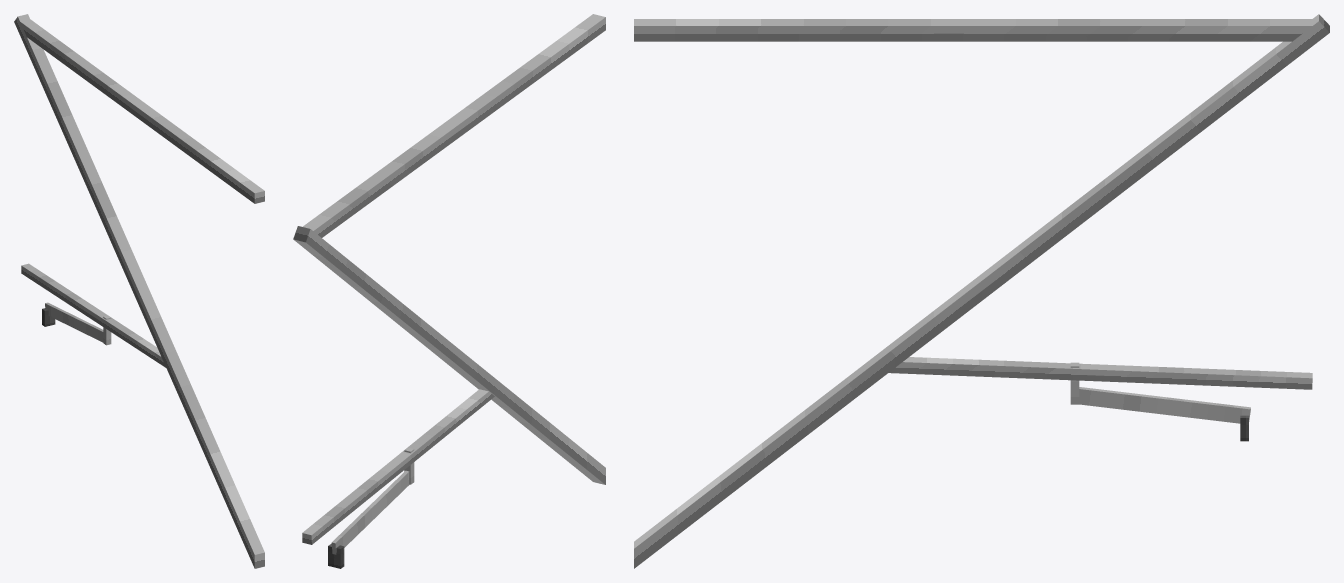
File: cantilever_inner_16px.obj
3 renders of one model, left to right at view 1: azimuth 30°, elevation 25°; view 2: azimuth 150°, elevation 25°; view 3: azimuth 270°, elevation 25°, orthographic. The views are drawn at different scales.
Visible parts, largest first — view 1: 7e5d1589-934e-4d10-9cf0-fa373af566a6, 04c0743c-f4ff-43c2-b0ee-af63a2e6686b, 1a833802-b906-4f8f-97af-9bd26318a0b5, dc614433-9173-4ecc-81e3-13df0f70e086; view 2: 7e5d1589-934e-4d10-9cf0-fa373af566a6, 04c0743c-f4ff-43c2-b0ee-af63a2e6686b, 1a833802-b906-4f8f-97af-9bd26318a0b5, dc614433-9173-4ecc-81e3-13df0f70e086; view 3: 7e5d1589-934e-4d10-9cf0-fa373af566a6, 04c0743c-f4ff-43c2-b0ee-af63a2e6686b, 1a833802-b906-4f8f-97af-9bd26318a0b5, dc614433-9173-4ecc-81e3-13df0f70e086.
Part boxes in pixels (<box>): 7e5d1589-934e-4d10-9cf0-fa373af566a6: <box>14,14,264,568</box>; 04c0743c-f4ff-43c2-b0ee-af63a2e6686b: <box>20,19,264,203</box>; 1a833802-b906-4f8f-97af-9bd26318a0b5: <box>21,263,165,367</box>; dc614433-9173-4ecc-81e3-13df0f70e086: <box>45,302,103,342</box>; 7e5d1589-934e-4d10-9cf0-fa373af566a6: <box>293,226,605,484</box>; 04c0743c-f4ff-43c2-b0ee-af63a2e6686b: <box>302,14,605,237</box>; 1a833802-b906-4f8f-97af-9bd26318a0b5: <box>302,389,494,544</box>; dc614433-9173-4ecc-81e3-13df0f70e086: <box>331,470,409,554</box>; 7e5d1589-934e-4d10-9cf0-fa373af566a6: <box>634,14,1329,568</box>; 04c0743c-f4ff-43c2-b0ee-af63a2e6686b: <box>634,19,1312,41</box>; 1a833802-b906-4f8f-97af-9bd26318a0b5: <box>889,357,1312,389</box>; dc614433-9173-4ecc-81e3-13df0f70e086: <box>1079,387,1250,423</box>.
Size of the model in its own units: 0.0625 by 2.23 by 2.56.
